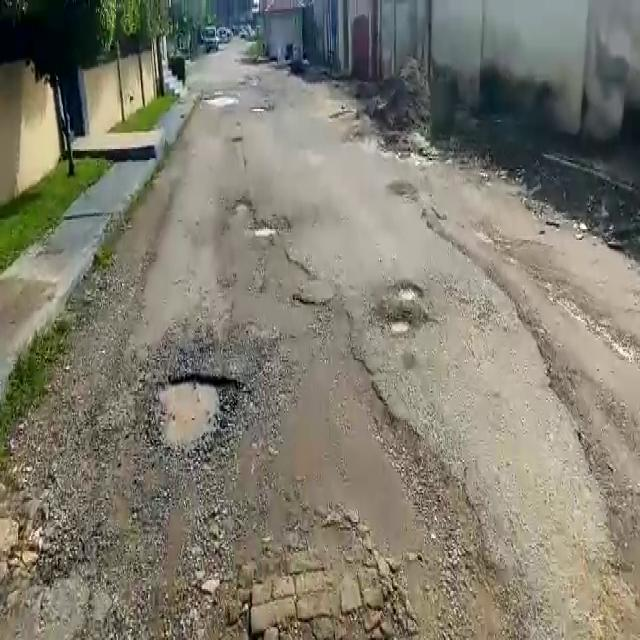Pothole: (156, 375, 239, 469), (393, 280, 423, 308), (253, 221, 277, 240), (389, 317, 410, 338), (231, 196, 250, 215)
